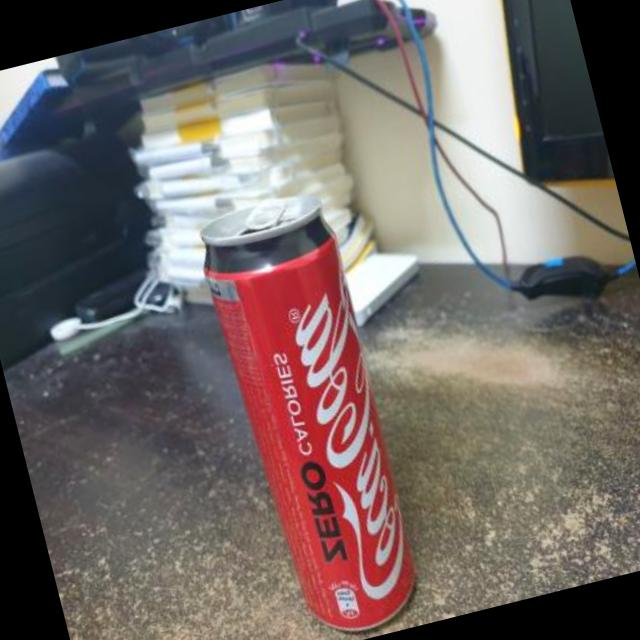metal: (204, 194, 416, 626)
